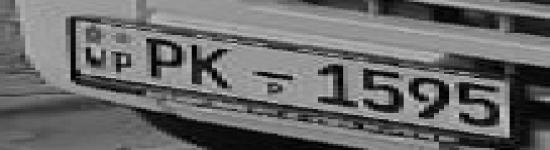-: (252, 68, 298, 84)
1: (306, 60, 362, 110)
5: (451, 78, 505, 129), (356, 66, 408, 114)
9: (406, 74, 456, 121)
K: (188, 42, 236, 91)
P: (142, 33, 188, 83), (110, 49, 136, 76)
W: (82, 44, 111, 71)
